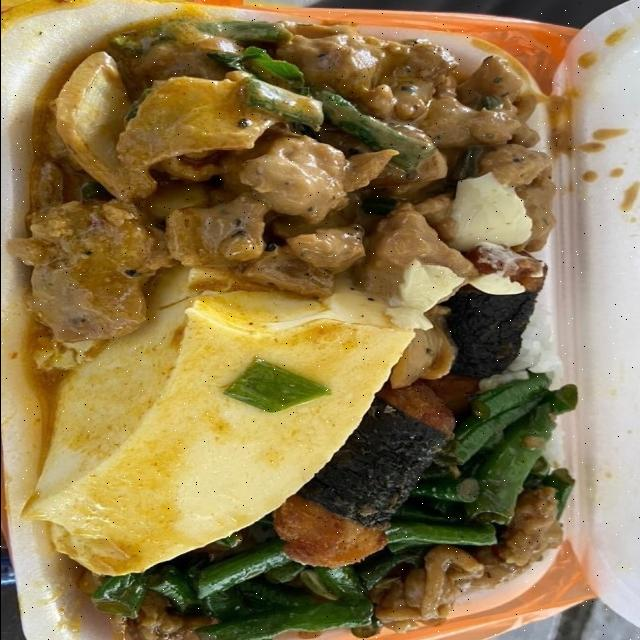Chicken: (10, 26, 553, 341), (92, 373, 576, 639), (274, 380, 454, 564), (442, 247, 546, 379)
Green veg: (92, 368, 577, 639)
Pork: (374, 487, 562, 631)
Rice: (22, 262, 461, 575), (450, 173, 531, 249)
